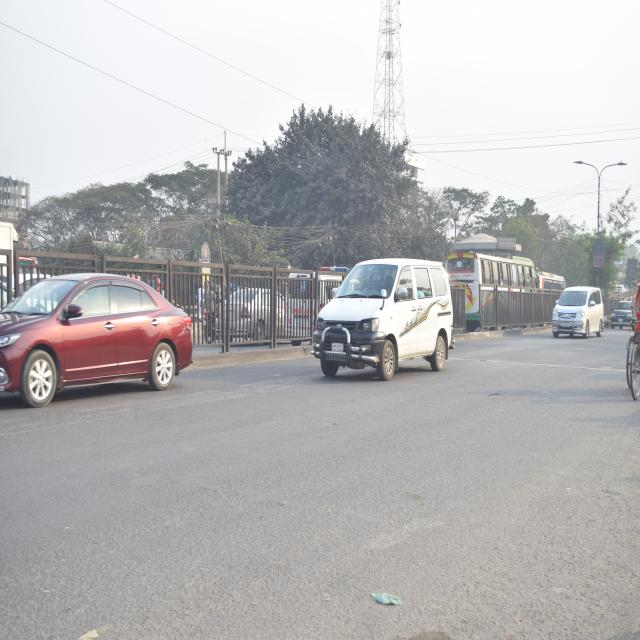car: (0, 258, 198, 409), (549, 278, 607, 343), (608, 292, 633, 339)
microbus: (314, 250, 454, 387)
